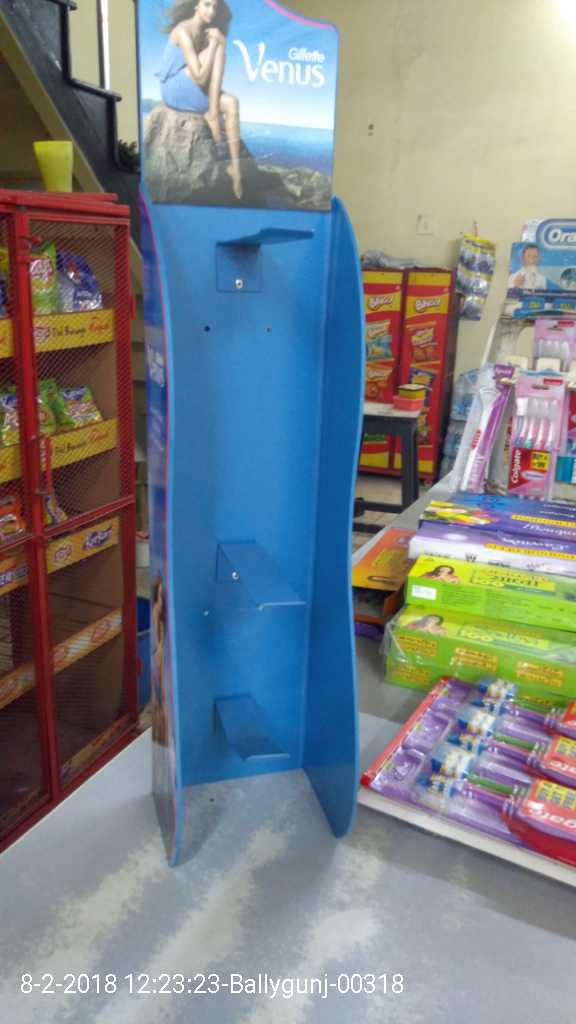reject: (232, 419, 324, 519)
